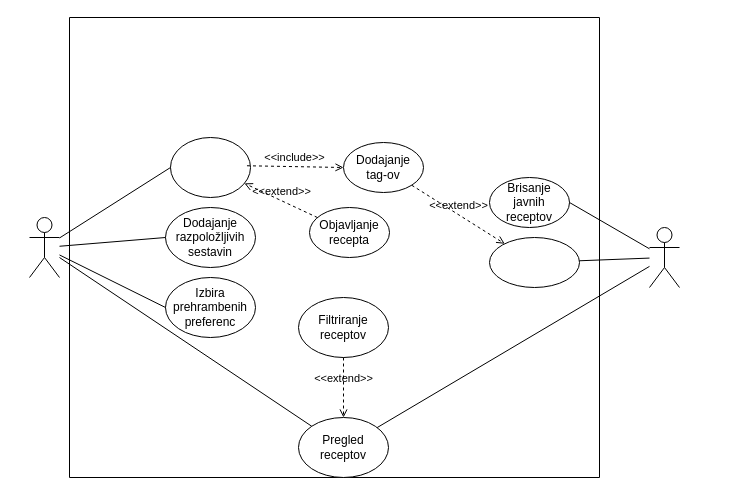
Some shapes in this 744 by 495 pixel diagram are drawn without their labels. The shapes that lost their labels are listed below. From the top down, each one's box as (x1, y1, x2, y2) in pixels, then its label:
(170, 136, 250, 198): Ustvarjanje recepta
(28, 216, 60, 278): Uporabnik
(488, 236, 580, 288): Urejanje javnih receptov
(648, 226, 680, 288): Vsebinski administrator
